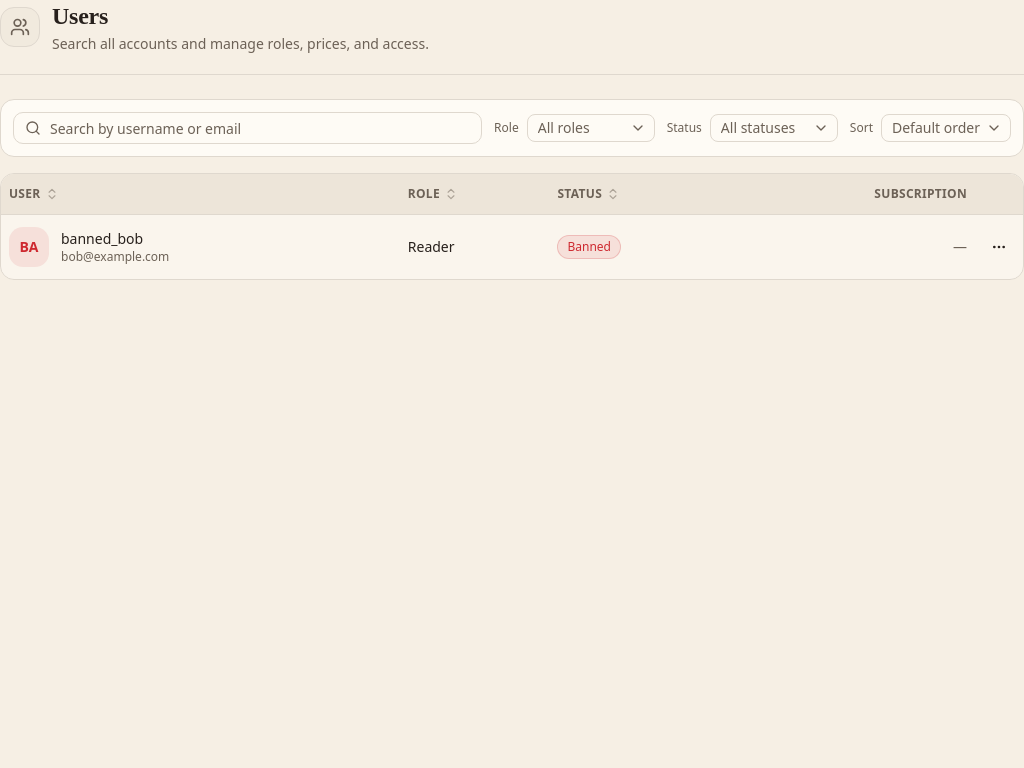
UsersManagementPage › shows the suspension reason in the details dialog for a banned user
What coordinates should you click on to do the following:
click the button named "Actions"
I would click on:
 (999, 246)
Its box is [983,230,1015,262].
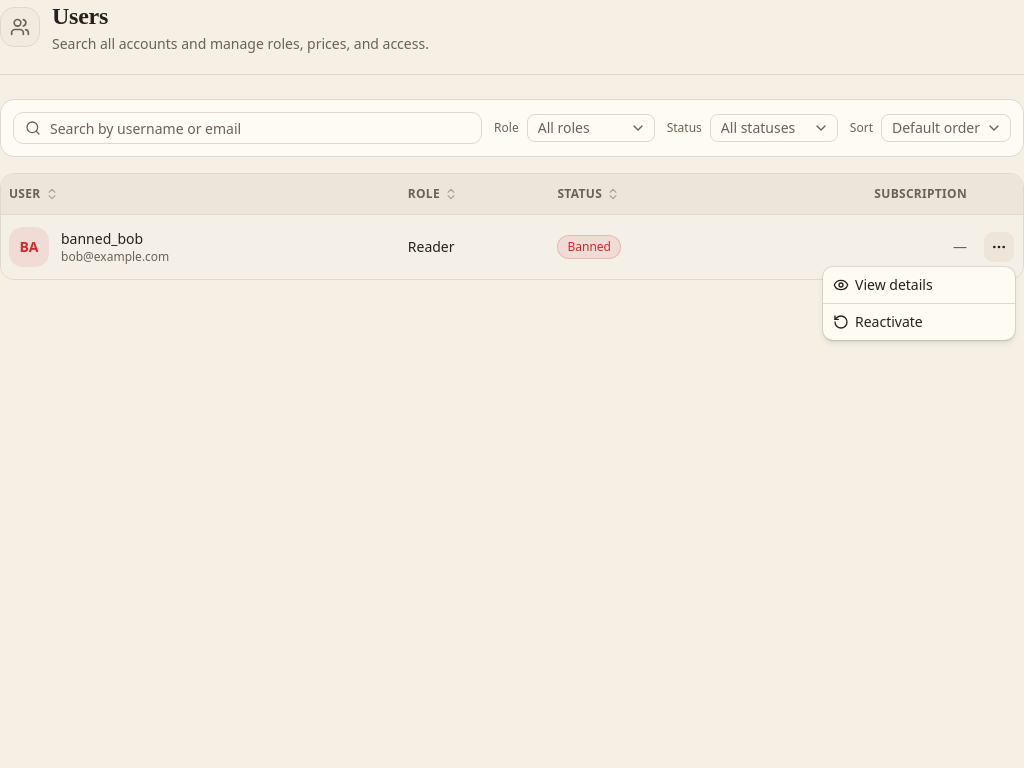
What coordinates should you click on to do the following:
click the menu item "View details"
I would click on:
 (883, 284)
Its box is [833,275,933,294].
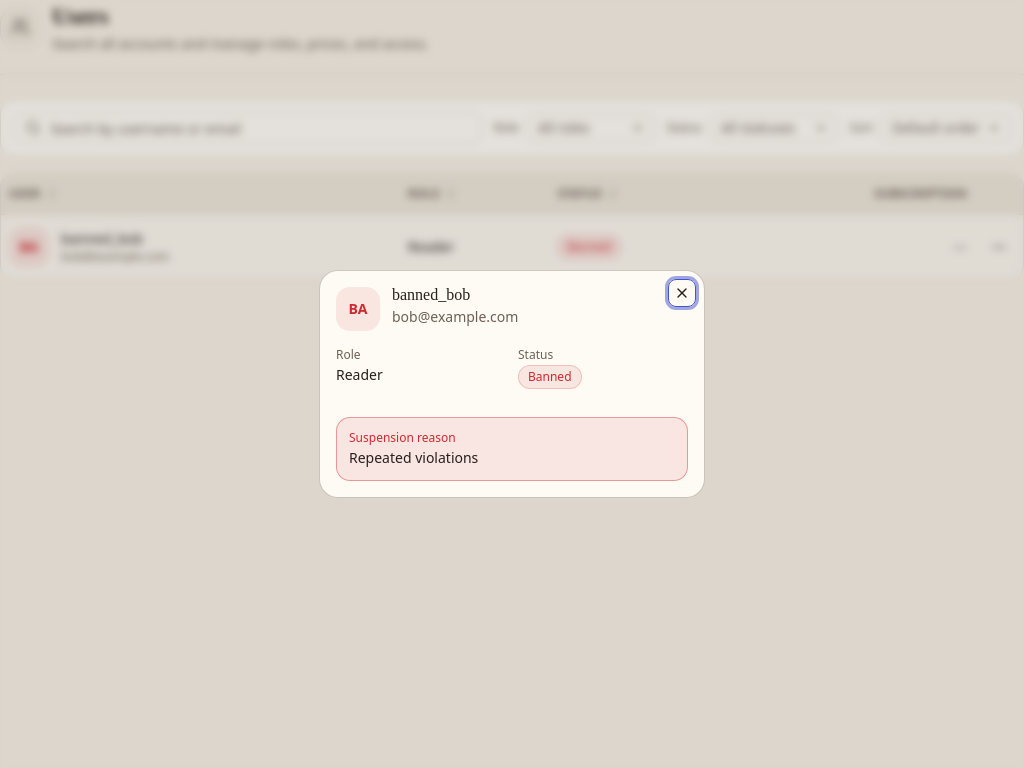
Check: the text "Repeated violations" is shown, box [349,448,478,467]
